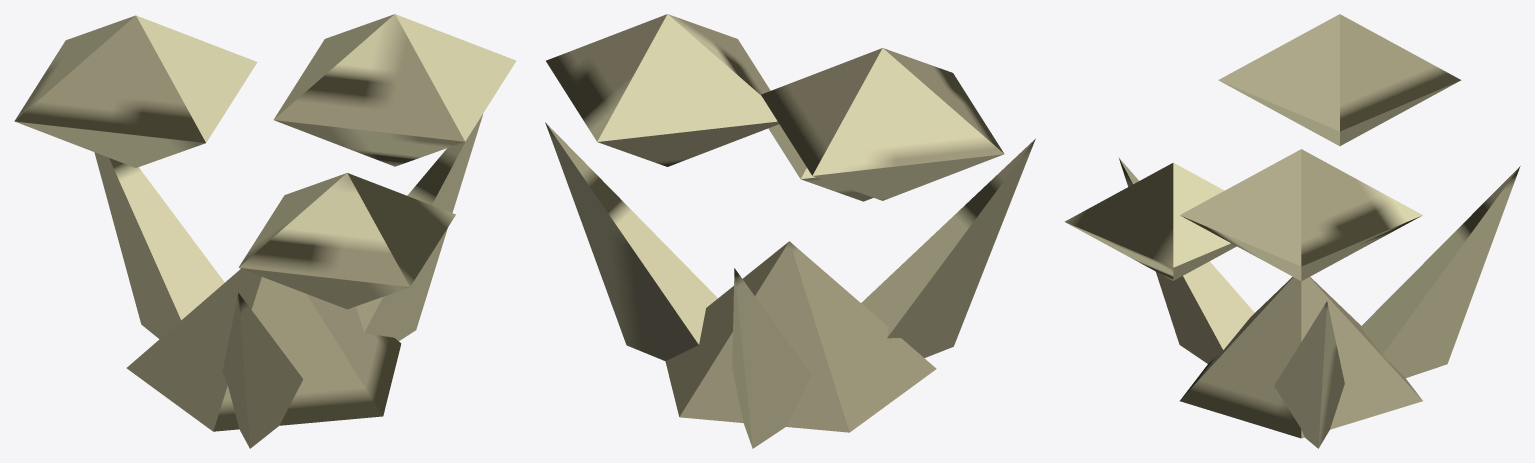
Rendered from flower_white.fbx.
The picture shows the model from 3 angles, left to right: view 1: azimuth 30°, elevation 25°; view 2: azimuth 150°, elevation 25°; view 3: azimuth 270°, elevation 25°; orthographic projection. The views are drawn at different scales.
Parts seen in each view (by area): view 1: prop; view 2: prop; view 3: prop.
Boxes of the visible parts, bbox=[...] form: prop: bbox=[14, 14, 516, 448]; prop: bbox=[545, 14, 1035, 448]; prop: bbox=[1064, 14, 1520, 448].
Bounding box in the file's own units: 0.375 × 0.277 × 0.3561.
